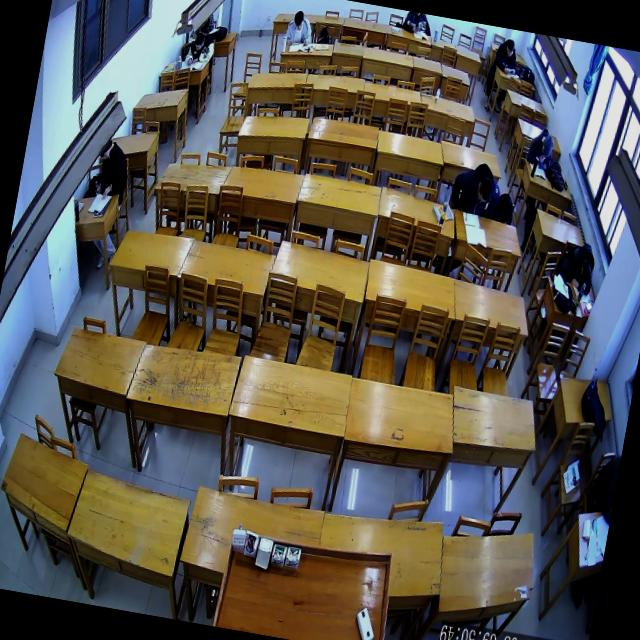bow: (558, 239, 598, 295)
down: (473, 176, 492, 204), (540, 133, 554, 157), (99, 136, 112, 160), (292, 8, 304, 30), (192, 32, 205, 52), (503, 38, 514, 58)
sit: (448, 159, 503, 219), (91, 138, 132, 204), (525, 124, 556, 170), (183, 30, 216, 70), (283, 8, 315, 48), (492, 36, 522, 76)
